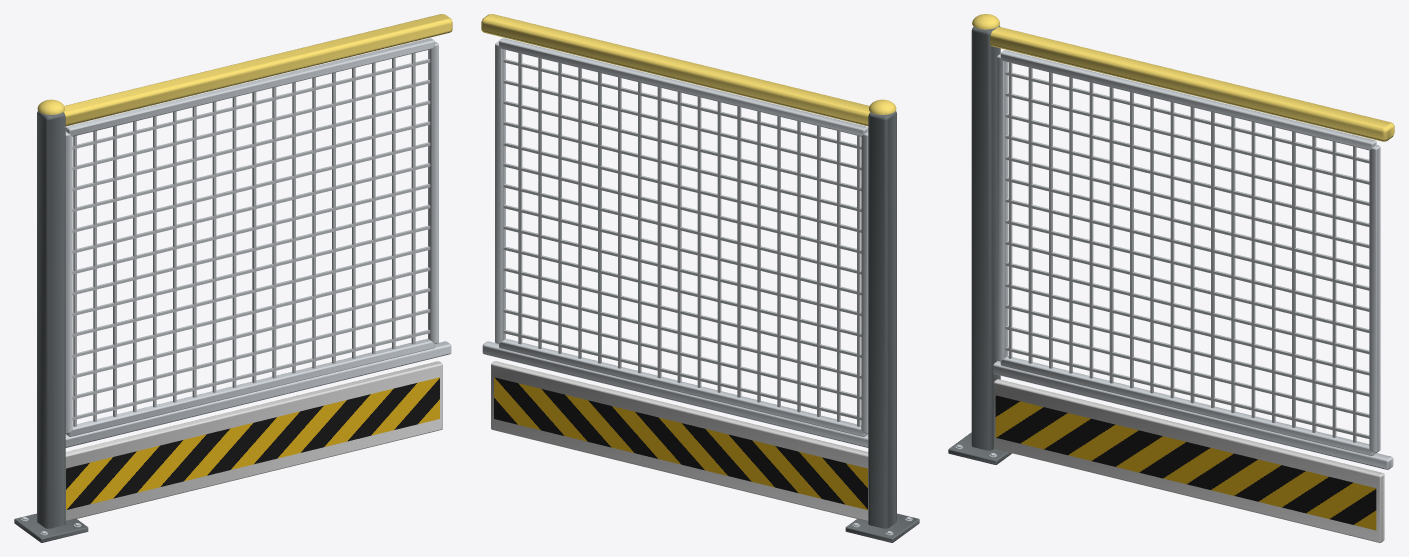
Rendered from valla.glb.
3 renders of one model, left to right at view 1: azimuth 30°, elevation 25°; view 2: azimuth 150°, elevation 25°; view 3: azimuth 330°, elevation 25°, orthographic.
Parts seen in each view (by area): view 1: franja-1, poste-0.5, rodapie, pasamanos, marco_h0.94, travesano, marco_h0.22, marco_v0.46, marco_v-0.46, mh21, mh26, mh29 (+30 smaller); view 2: franja1, poste-0.5, rodapie, pasamanos, marco_h0.94, travesano, marco_h0.22, marco_v0.46, marco_v-0.46, mh21, mh18, mh23 (+30 smaller); view 3: franja-1, rodapie, poste-0.5, pasamanos, marco_h0.94, travesano, marco_h0.22, marco_v0.46, marco_v-0.46, mh31, mh21, mh20 (+30 smaller).
Boxes of the visible parts, x1,y1,x2,y2 form: franja-1: [66, 377, 439, 509]; poste-0.5: [37, 111, 65, 528]; rodapie: [65, 361, 442, 521]; pasamanos: [63, 14, 452, 126]; marco_h0.94: [65, 38, 434, 136]; travesano: [65, 341, 451, 447]; marco_h0.22: [66, 338, 434, 436]; marco_v0.46: [428, 41, 438, 343]; marco_v-0.46: [65, 131, 72, 433]; mh21: [72, 267, 430, 357]; mh26: [72, 163, 430, 253]; mh29: [72, 100, 430, 190]; franja1: [494, 377, 867, 509]; poste-0.5: [868, 111, 896, 528]; rodapie: [491, 361, 868, 521]; pasamanos: [481, 14, 870, 126]; marco_h0.94: [499, 38, 868, 136]; travesano: [482, 341, 868, 447]; marco_h0.22: [499, 338, 867, 436]; marco_v0.46: [495, 41, 505, 343]; marco_v-0.46: [861, 131, 868, 433]; mh21: [503, 267, 861, 357]; mh18: [503, 329, 861, 420]; mh23: [503, 225, 861, 315]; franja-1: [995, 395, 1376, 530]; rodapie: [994, 379, 1384, 542]; poste-0.5: [971, 25, 1000, 450]; pasamanos: [990, 27, 1394, 141]; marco_h0.94: [1000, 50, 1376, 150]; travesano: [993, 361, 1393, 469]; marco_h0.22: [1000, 356, 1375, 455]; marco_v0.46: [1369, 145, 1380, 452]; marco_v-0.46: [996, 53, 1007, 361]; mh31: [1005, 71, 1369, 163]; mh21: [1005, 283, 1369, 375]; mh20: [1005, 304, 1369, 396].
Size of the model in its own units: 1.06 by 1.02 by 0.12.
6 materials, 1 textured.
